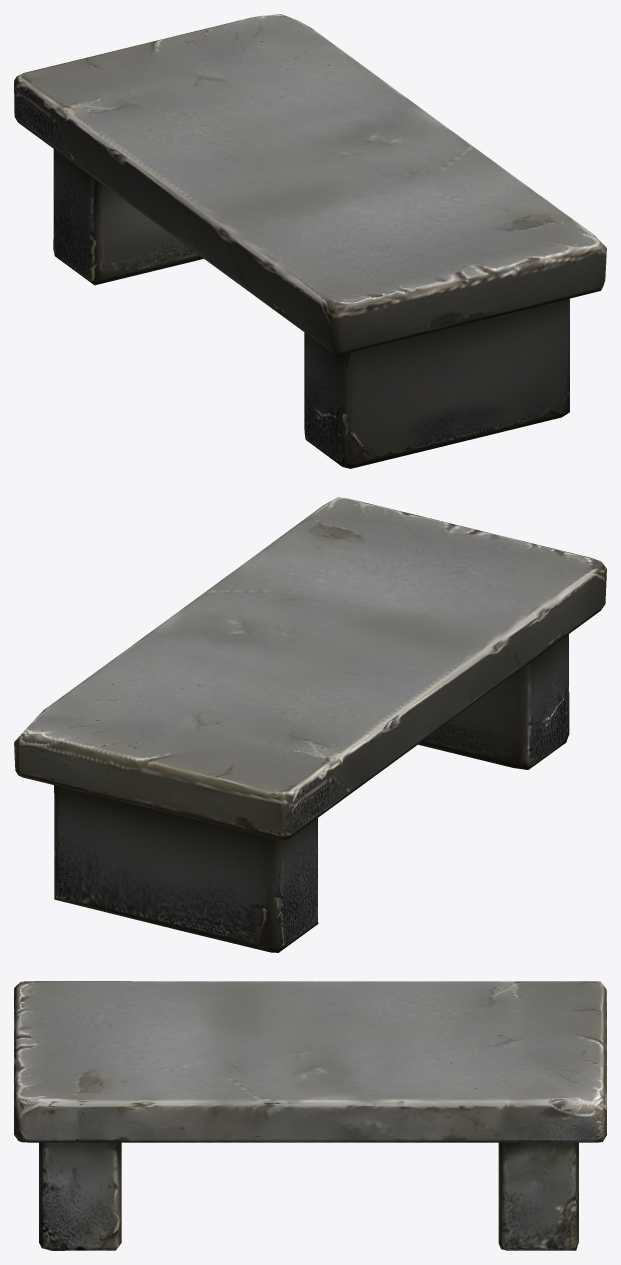
Rendered from tripo_convert_330076ed-bddb-424e-b143-34c1afc6a52a.fbx.
The picture shows the model from 3 angles, top to bottom: view 1: azimuth 30°, elevation 25°; view 2: azimuth 150°, elevation 25°; view 3: azimuth 270°, elevation 25°; orthographic projection. The views are drawn at different scales.
Parts seen in each view (by area): view 1: tripo_node_330076ed; view 2: tripo_node_330076ed; view 3: tripo_node_330076ed.
Boxes of the visible parts, <box> form: tripo_node_330076ed: <box>14,14,606,468</box>; tripo_node_330076ed: <box>14,497,606,952</box>; tripo_node_330076ed: <box>14,981,606,1250</box>.
Size of the model in its own units: 0.4903 by 0.3026 by 0.9999.
1 material, 1 textured.
